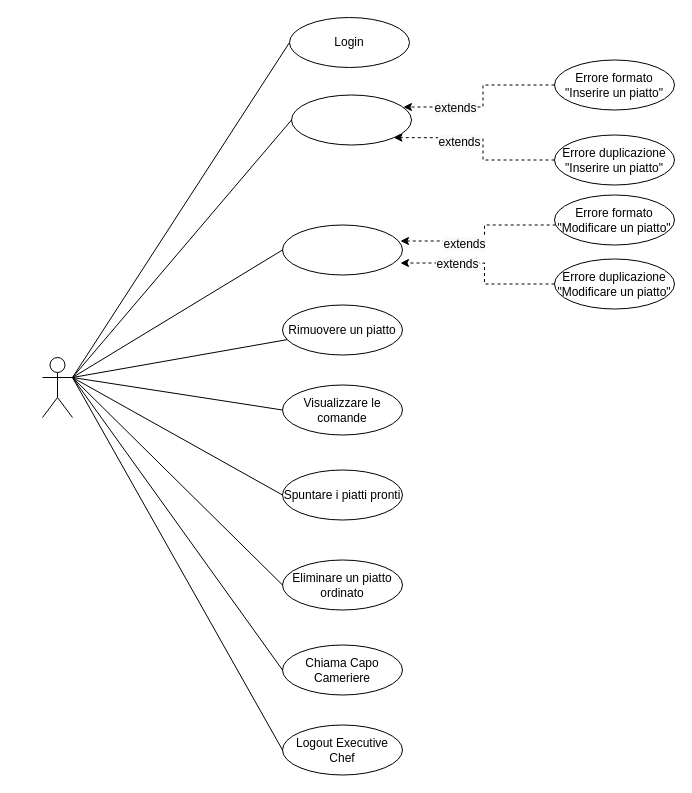
The diagram is 692 pixels wide and 793 high, and some of its shapes have lost their labels. Each missing label, with the centre of its shape:
Executive Chef: the point at 57,387
Inserire un piatto: the point at 351,119
Modificare un piatto: the point at 342,249
